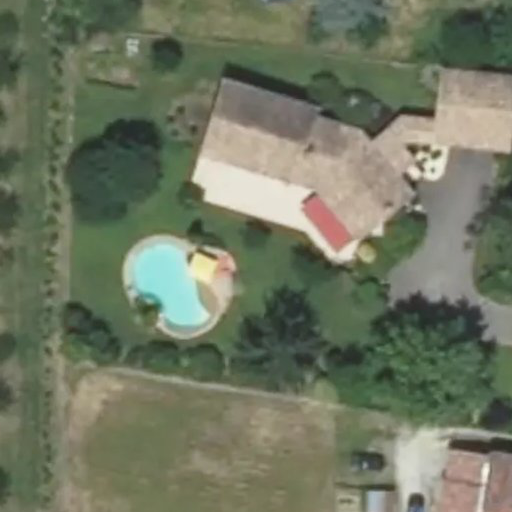pool: (132, 240, 217, 335)
